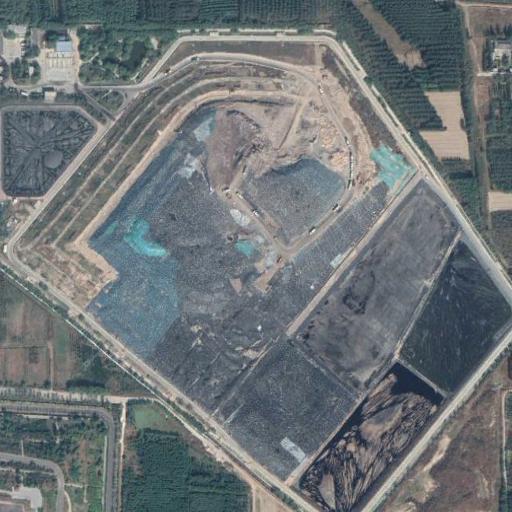lf: (8, 32, 512, 512)
